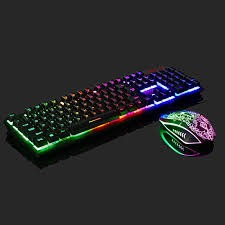keyboard: (0, 67, 219, 163)
mouse: (157, 109, 218, 157)
